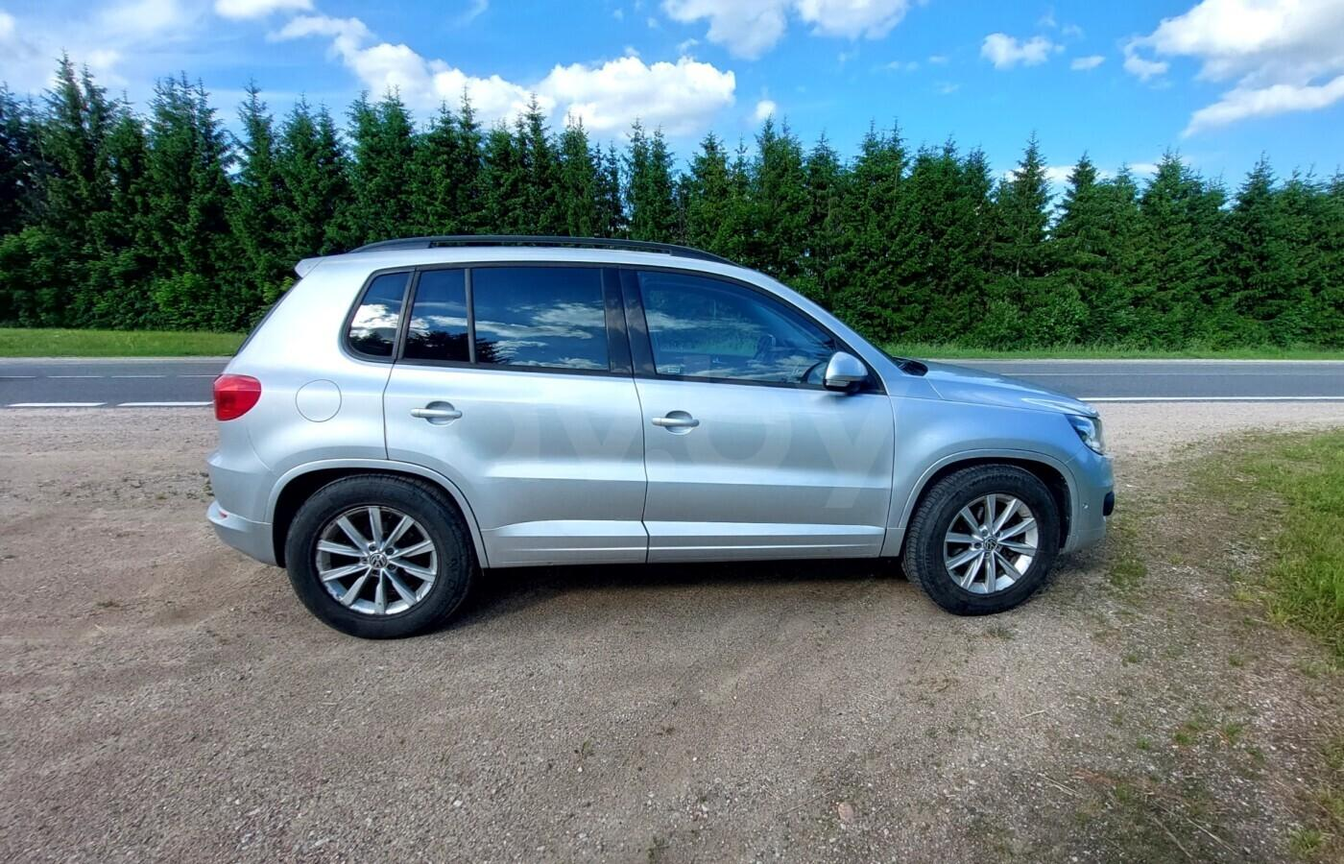Tiguan_2011-2018: (194, 235, 1114, 636)
